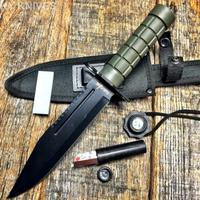knife: (7, 17, 175, 199)
